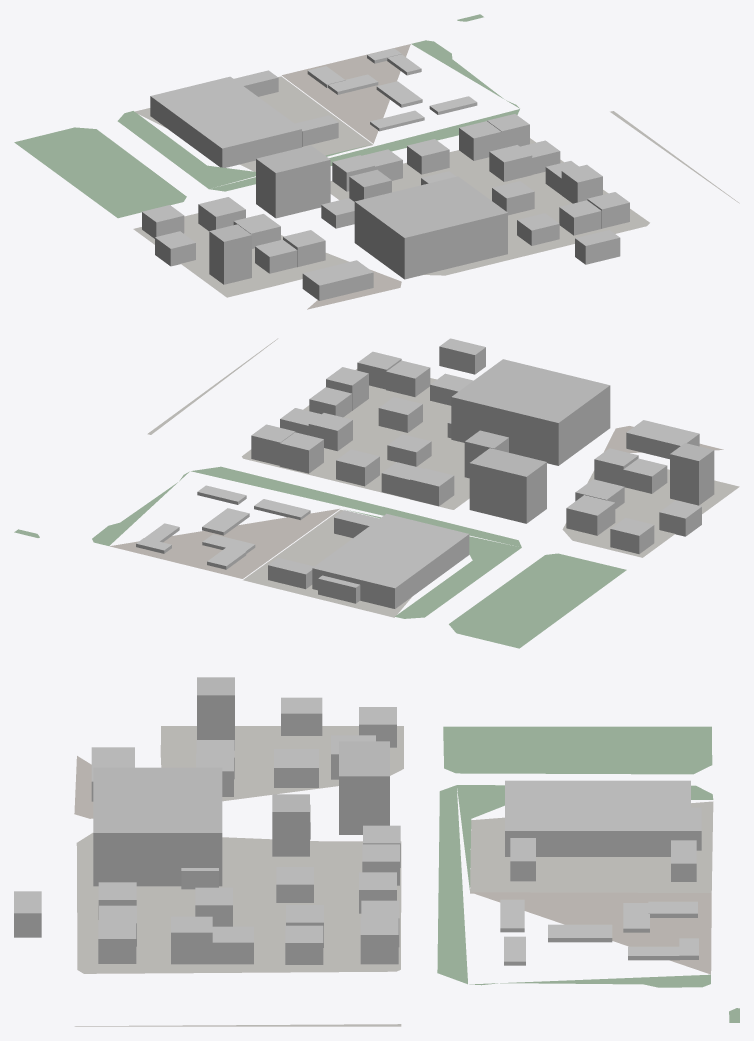
File: 125_73_mid.glb
3 renders of one model, top to bottom at view 1: azimuth 30°, elevation 25°; view 2: azimuth 150°, elevation 25°; view 3: azimuth 270°, elevation 25°, orthographic. The views are drawn at different scales.
Bounding box in the file's own units: 510 × 45.86 × 507.
